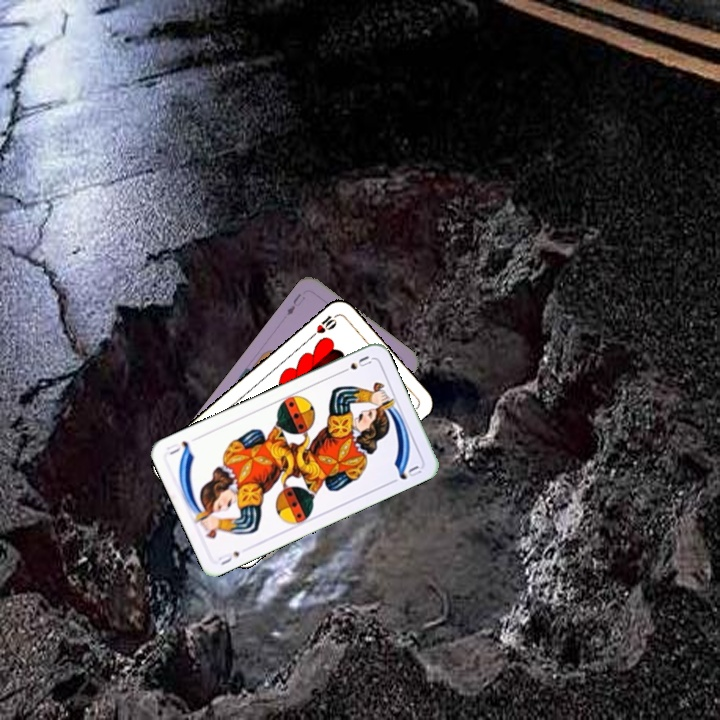EU: (283, 289, 308, 318)
H10: (307, 310, 340, 341)
SU: (336, 352, 374, 376), (214, 547, 242, 568)
